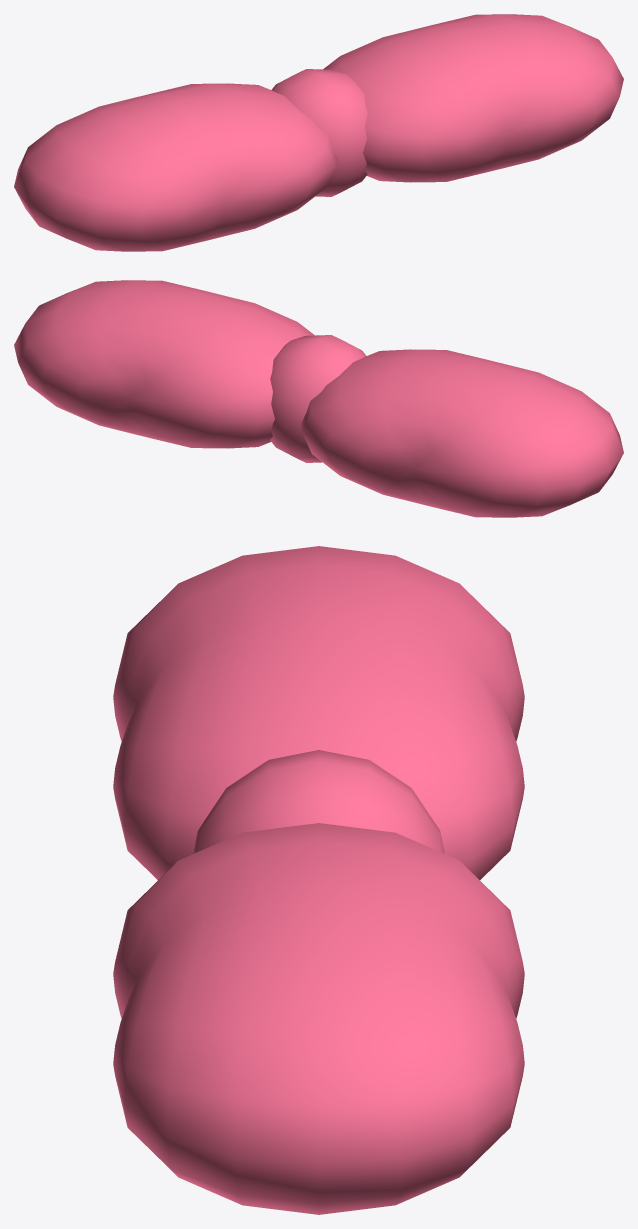
The model's file is buho_extras.glb.
3 renders of one model, top to bottom at view 1: azimuth 30°, elevation 25°; view 2: azimuth 150°, elevation 25°; view 3: azimuth 270°, elevation 25°, orthographic. The views are drawn at different scales.
Visible parts, largest first — view 1: acc_mono; view 2: acc_mono; view 3: acc_mono.
Boxes of the visible parts, box(x1,y1,x2,y2) form: acc_mono: box(14, 14, 623, 251); acc_mono: box(14, 280, 623, 517); acc_mono: box(113, 546, 524, 1214).
Size of the model in its own units: 0.1589 by 0.0342 by 0.0486.
